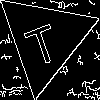T: (20, 14, 62, 68)
